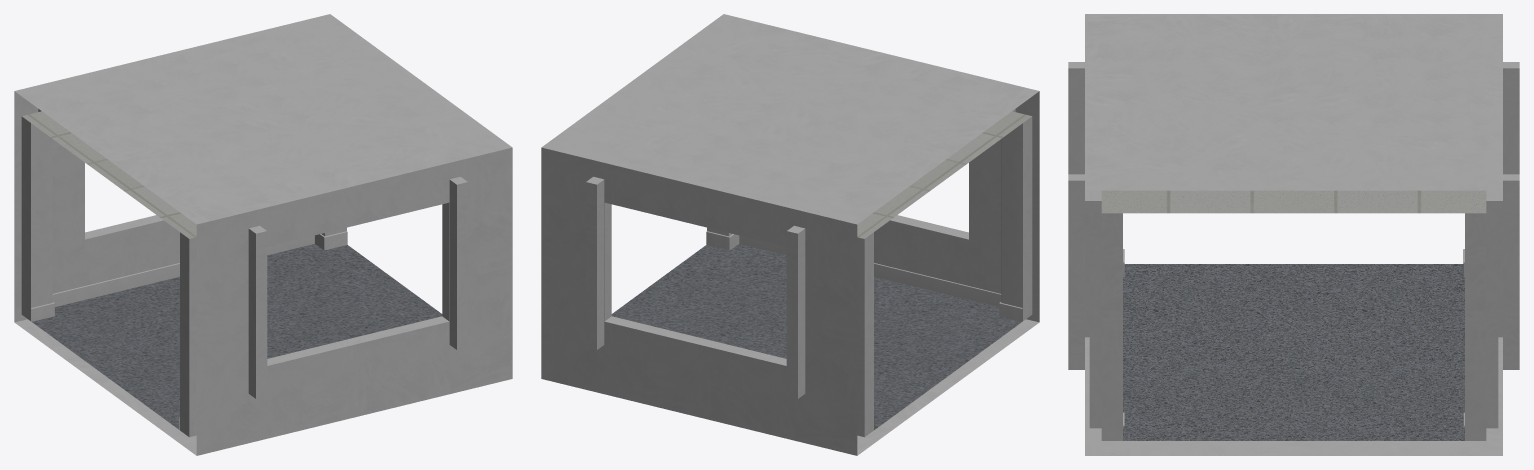
The model's file is SM_HallwayMesh_01_Mid.fbx.
3 views of the same model, side by side, from view 1: azimuth 30°, elevation 25°; view 2: azimuth 150°, elevation 25°; view 3: azimuth 270°, elevation 25° (orthographic). The views are drawn at different scales.
Parts seen in each view (by area): view 1: SM_HallwayMesh_01_Mid_LOD0; view 2: SM_HallwayMesh_01_Mid_LOD0; view 3: SM_HallwayMesh_01_Mid_LOD0.
Part boxes in pixels (<box>): SM_HallwayMesh_01_Mid_LOD0: <box>14,14,512,455</box>; SM_HallwayMesh_01_Mid_LOD0: <box>541,14,1039,455</box>; SM_HallwayMesh_01_Mid_LOD0: <box>1068,14,1519,455</box>.
Size of the model in its own units: 500 by 540 by 350.
5 materials, 5 textured.
